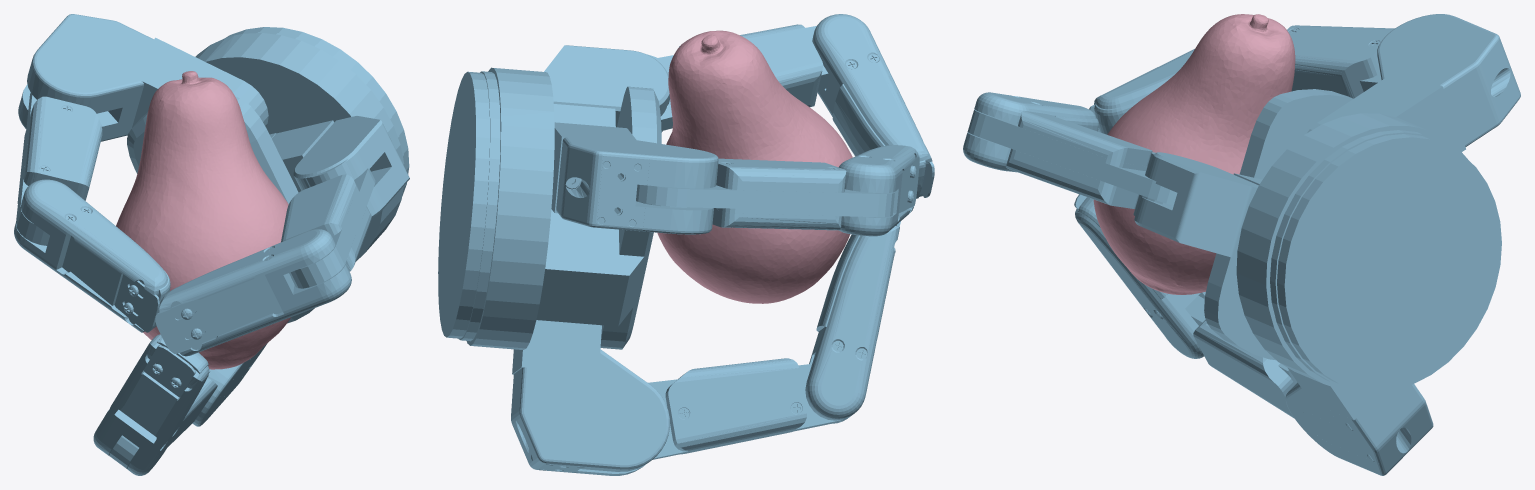
3 views of the same model, side by side, from view 1: azimuth 30°, elevation 25°; view 2: azimuth 150°, elevation 25°; view 3: azimuth 270°, elevation 25° (orthographic). The views are drawn at different scales.
Parts seen in each view (by area): view 1: world; view 2: world; view 3: world.
Boxes of the visible parts, x1=… form: world: x1=14, y1=14, x2=409, y2=475; world: x1=438, y1=14, x2=934, y2=475; world: x1=963, y1=14, x2=1520, y2=475.
Size of the model in its own units: 0.1596 by 0.1487 by 0.181.
